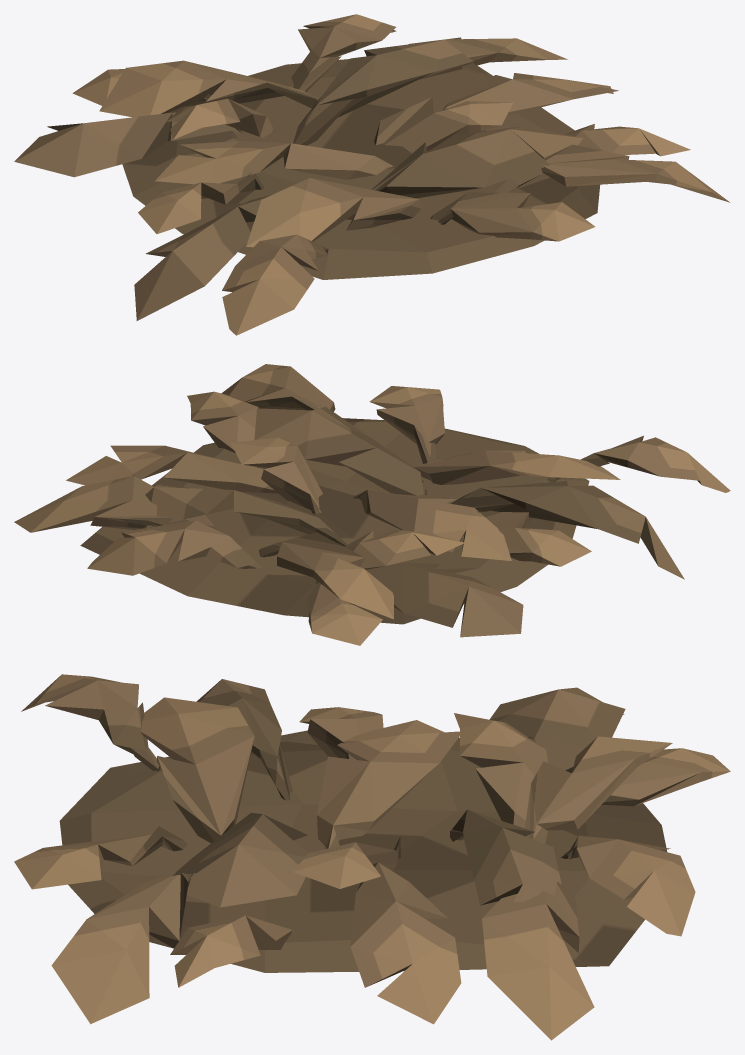
Rendered from SM_Bld_Village_Cover_Leaf_01.glb.
3 views of the same model, one above another, from view 1: azimuth 30°, elevation 25°; view 2: azimuth 150°, elevation 25°; view 3: azimuth 270°, elevation 25° (orthographic). The views are drawn at different scales.
Visible parts, largest first — view 1: SM_Bld_Village_Cover_Leaf_01; view 2: SM_Bld_Village_Cover_Leaf_01; view 3: SM_Bld_Village_Cover_Leaf_01.
Boxes of the visible parts, x1,y1,x2,y2 form: SM_Bld_Village_Cover_Leaf_01: (14, 14, 729, 335); SM_Bld_Village_Cover_Leaf_01: (14, 364, 730, 645); SM_Bld_Village_Cover_Leaf_01: (14, 674, 730, 1040).
Bounding box in the file's own units: 5.73 × 0.9602 × 5.11.
Materials: 1 (1 with a texture image).
